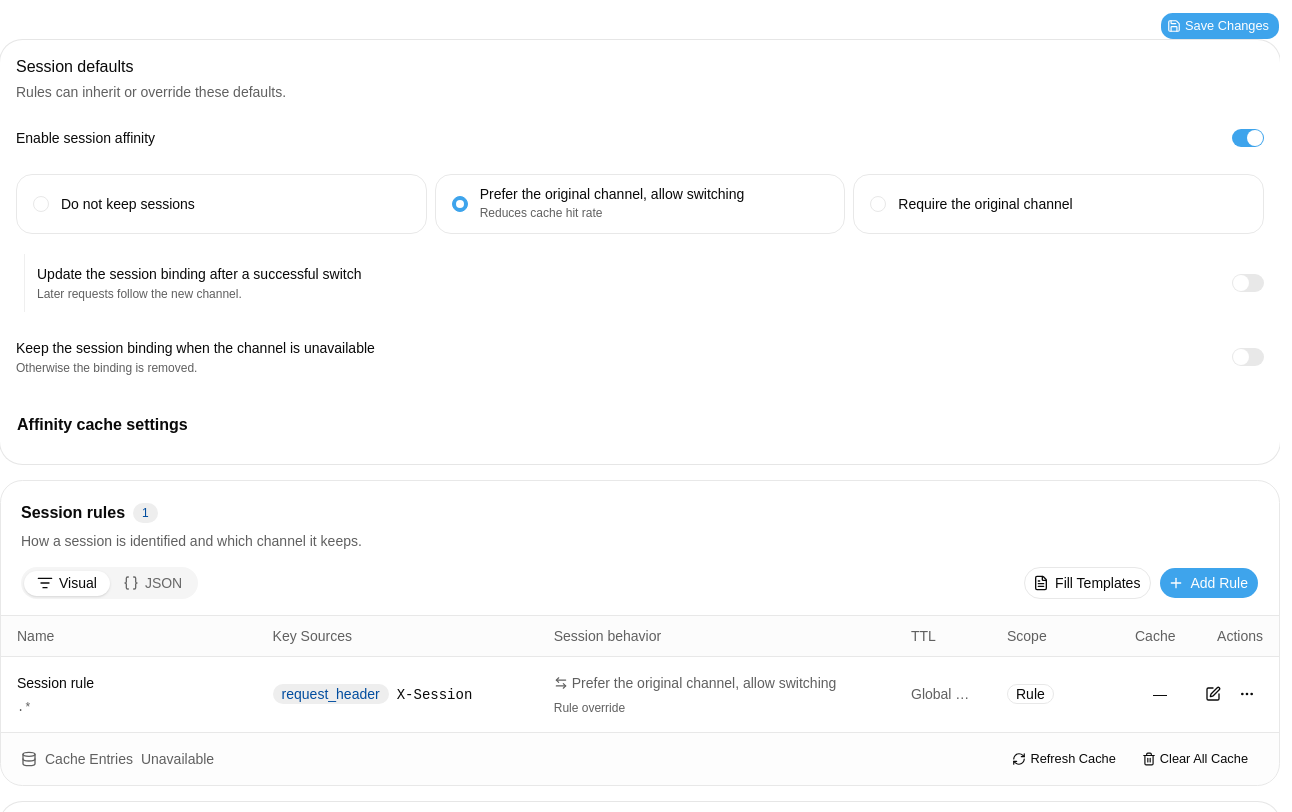
Test: unavailable cache statistics show an unknown count and refresh recovers the summary
This screenshot has width=1292, height=812.
Check: the message shows "Unavailable", box [141,750,214,766]
Check: the cell "—" is shown, box [1119,656,1183,732]
Click the button "Refresh Cache" at {"x": 1064, "y": 758}, box [1001,744,1127,772]
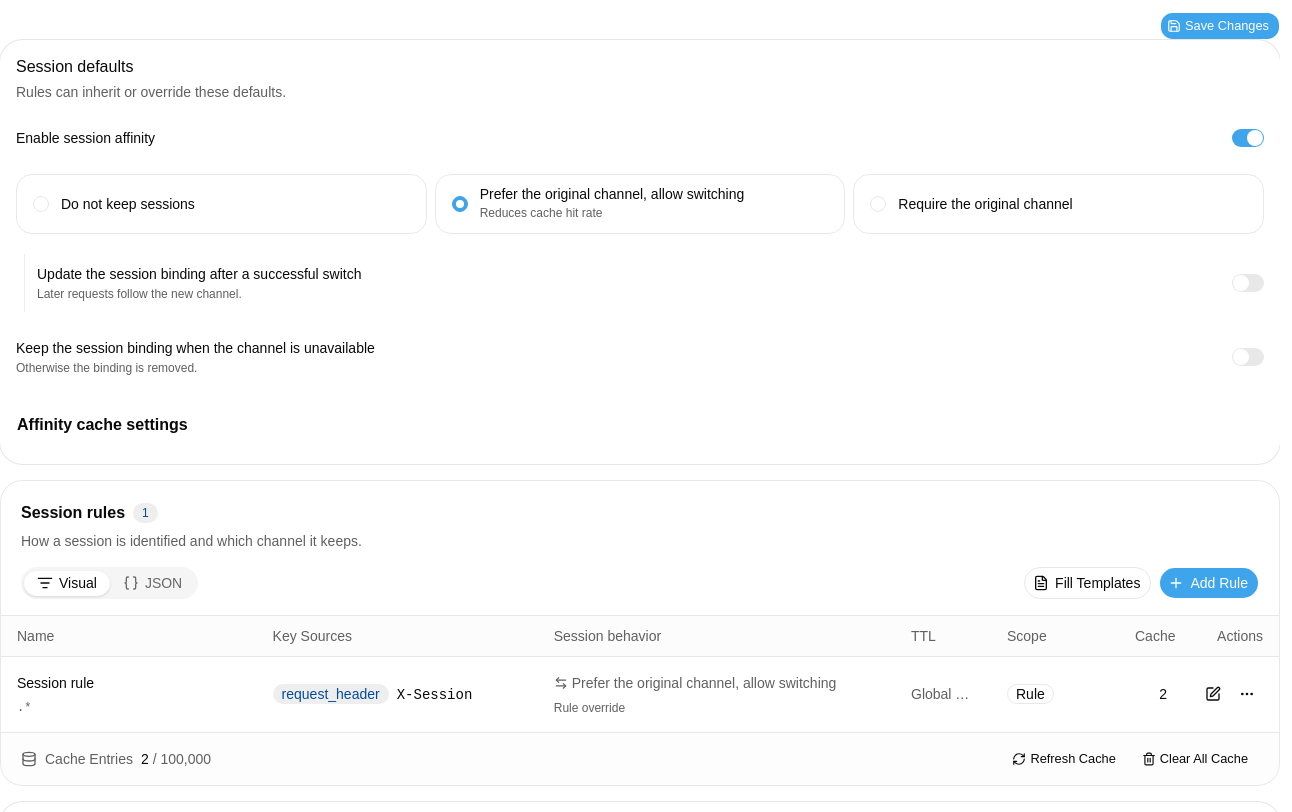
Check: the cell "2" is shown, box [1119,656,1183,732]
Check: the message reads "Cache Entries 2 / 100,000", box [21,748,211,768]
